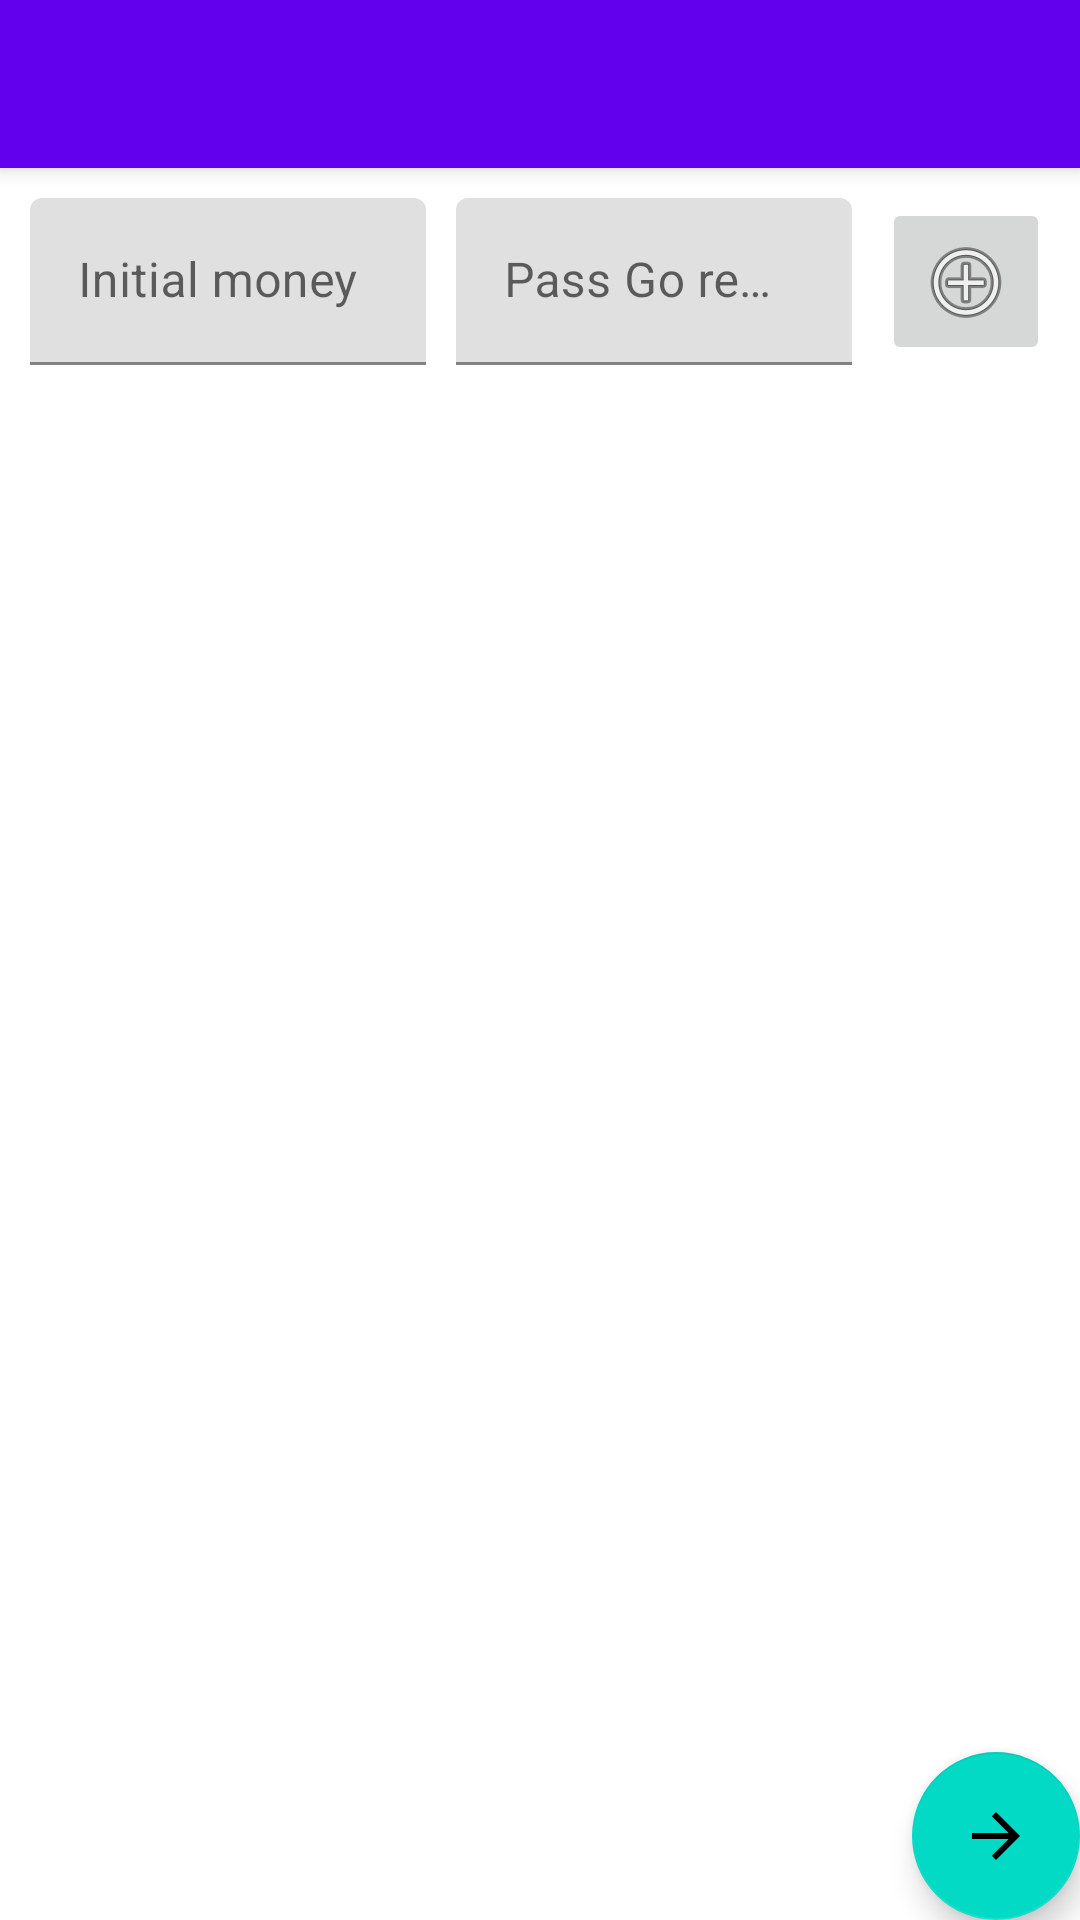

Screen size 1080px x 1920px. Icon name, then its box in pixels as (x1, y1, x2, y2):
Add player: (894, 216, 1038, 347)
